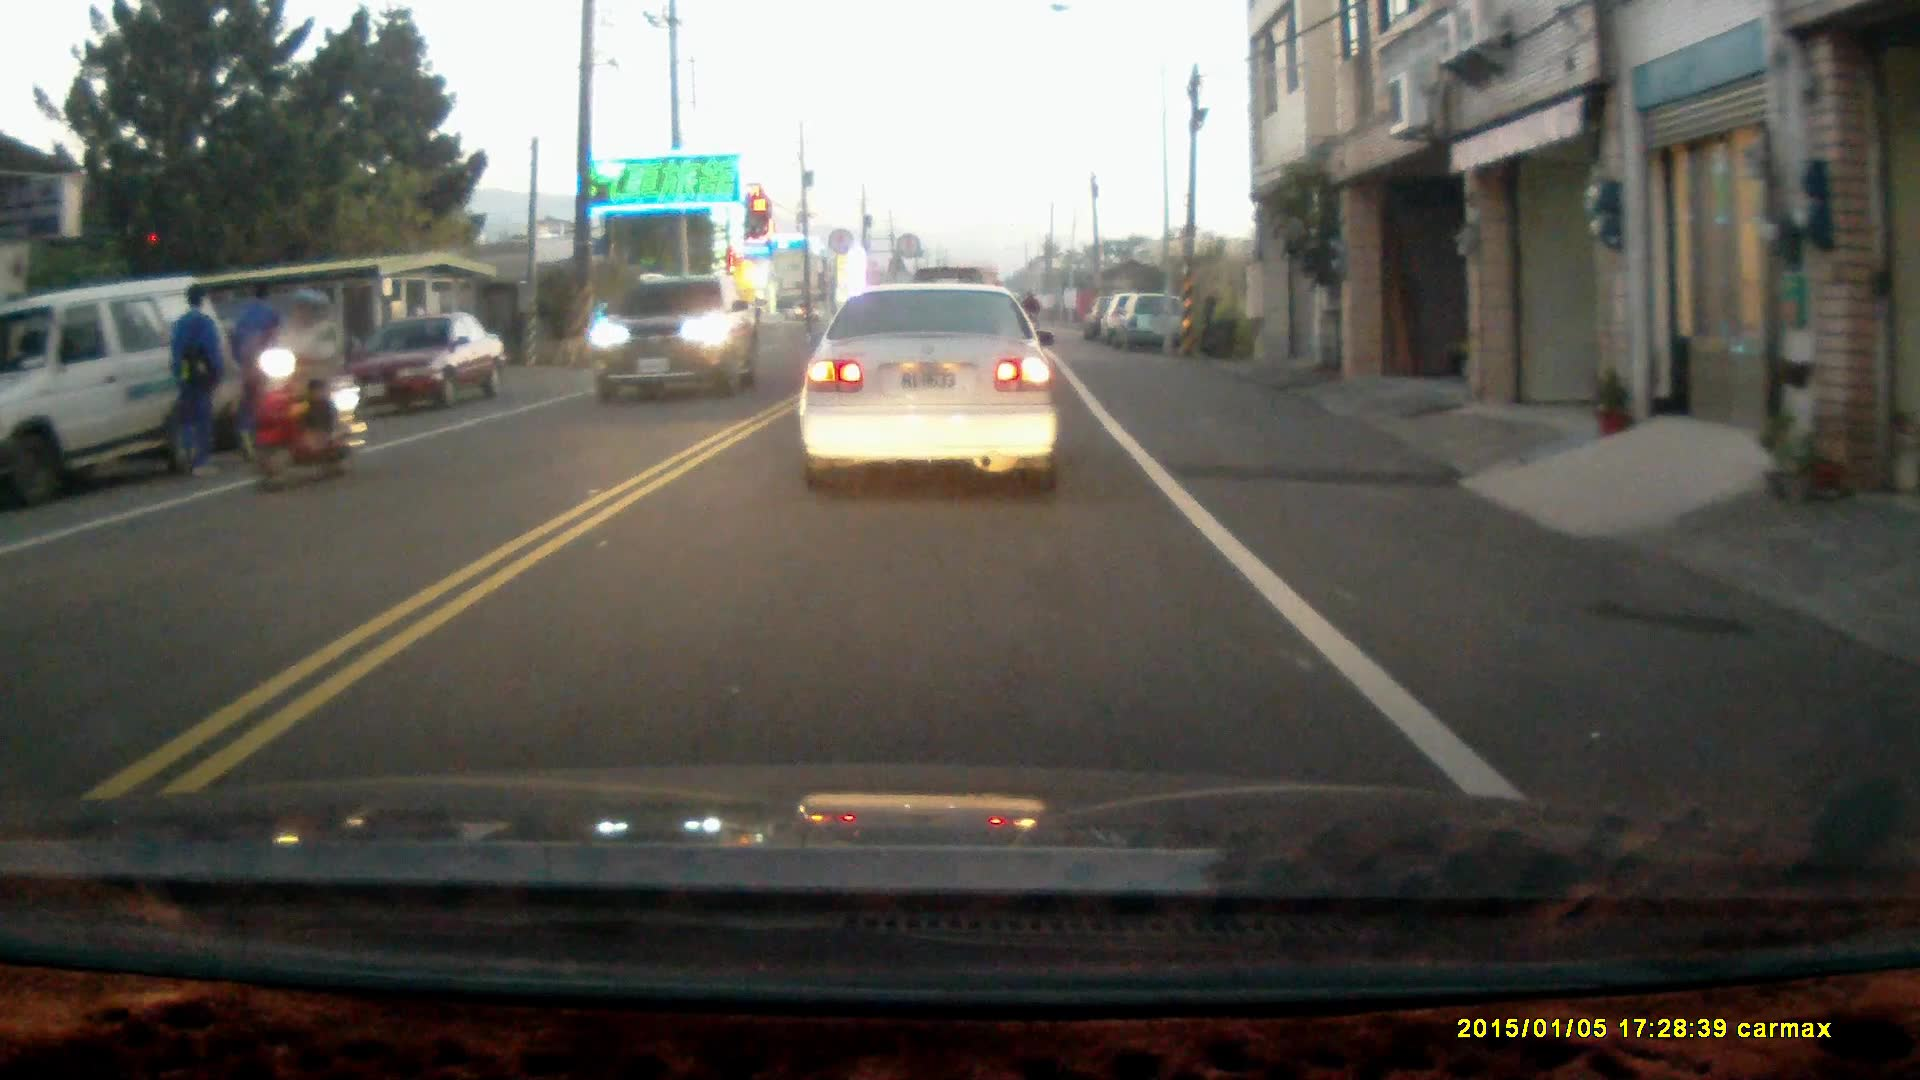pedestrian: (226, 277, 293, 470), (160, 285, 224, 479)
rider: (247, 282, 370, 491)
vehicle: (798, 283, 1064, 501), (1, 281, 225, 500), (91, 318, 330, 443), (590, 273, 758, 410), (340, 313, 511, 416), (1114, 294, 1194, 358)
